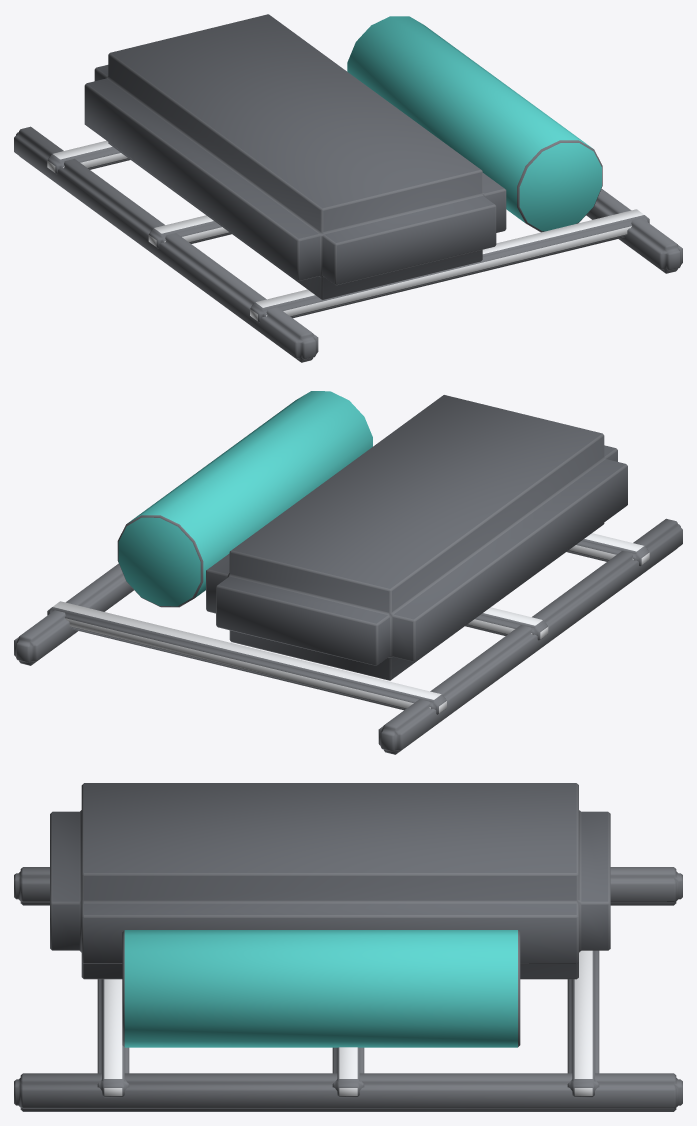
The model's file is OW_CarRoofRack.fbx.
The picture shows the model from 3 angles, top to bottom: view 1: azimuth 30°, elevation 25°; view 2: azimuth 150°, elevation 25°; view 3: azimuth 270°, elevation 25°; orthographic projection. The views are drawn at different scales.
Visible parts, largest first — view 1: RoofRack; view 2: RoofRack; view 3: RoofRack.
Boxes of the visible parts, box(x1,y1,x2,y2) form: RoofRack: box(14, 14, 682, 362); RoofRack: box(14, 391, 682, 754); RoofRack: box(14, 783, 682, 1111).
Bounding box in the file's own units: 116 × 35 × 148.
